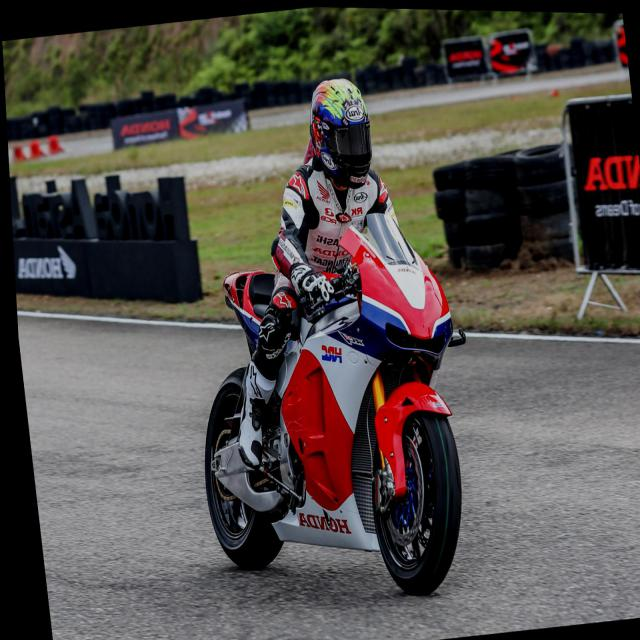HRC RCV 213: (170, 196, 476, 618)
